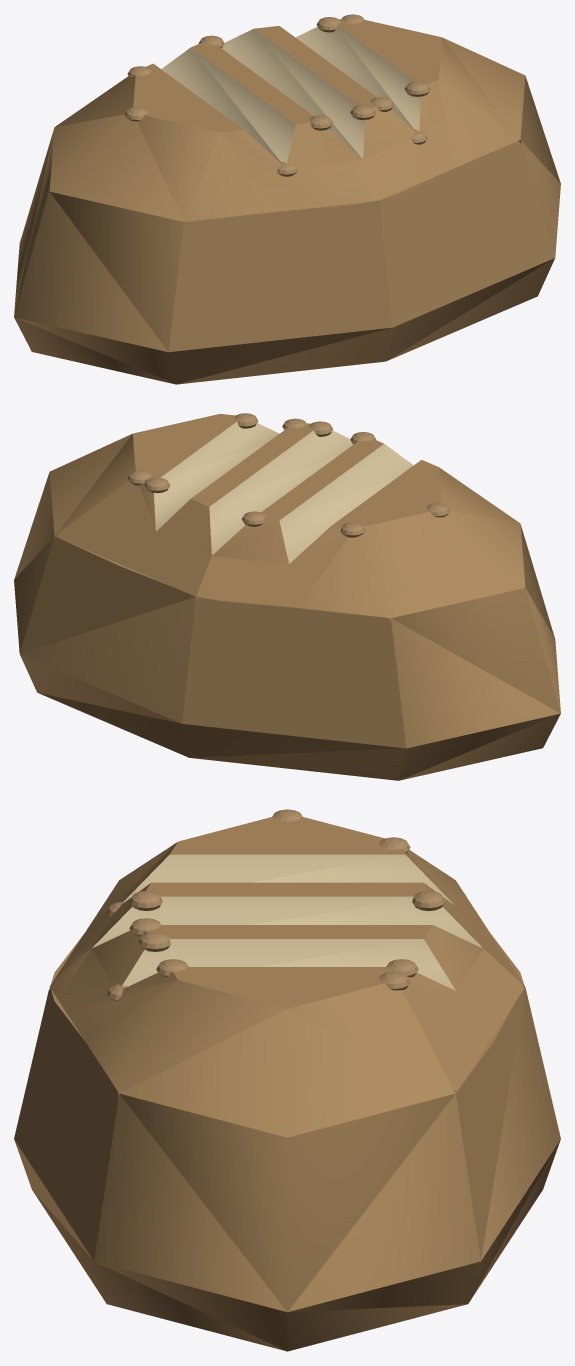
The model's file is loaf-round.glb.
3 views of the same model, one above another, from view 1: azimuth 30°, elevation 25°; view 2: azimuth 150°, elevation 25°; view 3: azimuth 270°, elevation 25° (orthographic). The views are drawn at different scales.
Parts seen in each view (by area): view 1: loaf-round; view 2: loaf-round; view 3: loaf-round.
Part boxes in pixels (x1=…): loaf-round: x1=14, y1=14, x2=560, y2=384; loaf-round: x1=14, y1=413, x2=560, y2=780; loaf-round: x1=14, y1=809, x2=560, y2=1351.
Size of the model in its own units: 0.7717 by 0.2932 by 0.5145.
